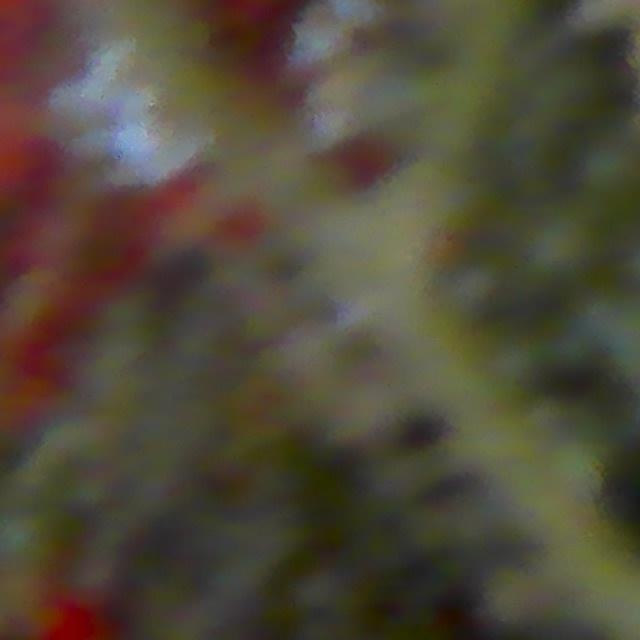SeaGrape: (518, 204, 602, 284), (0, 506, 56, 571)
